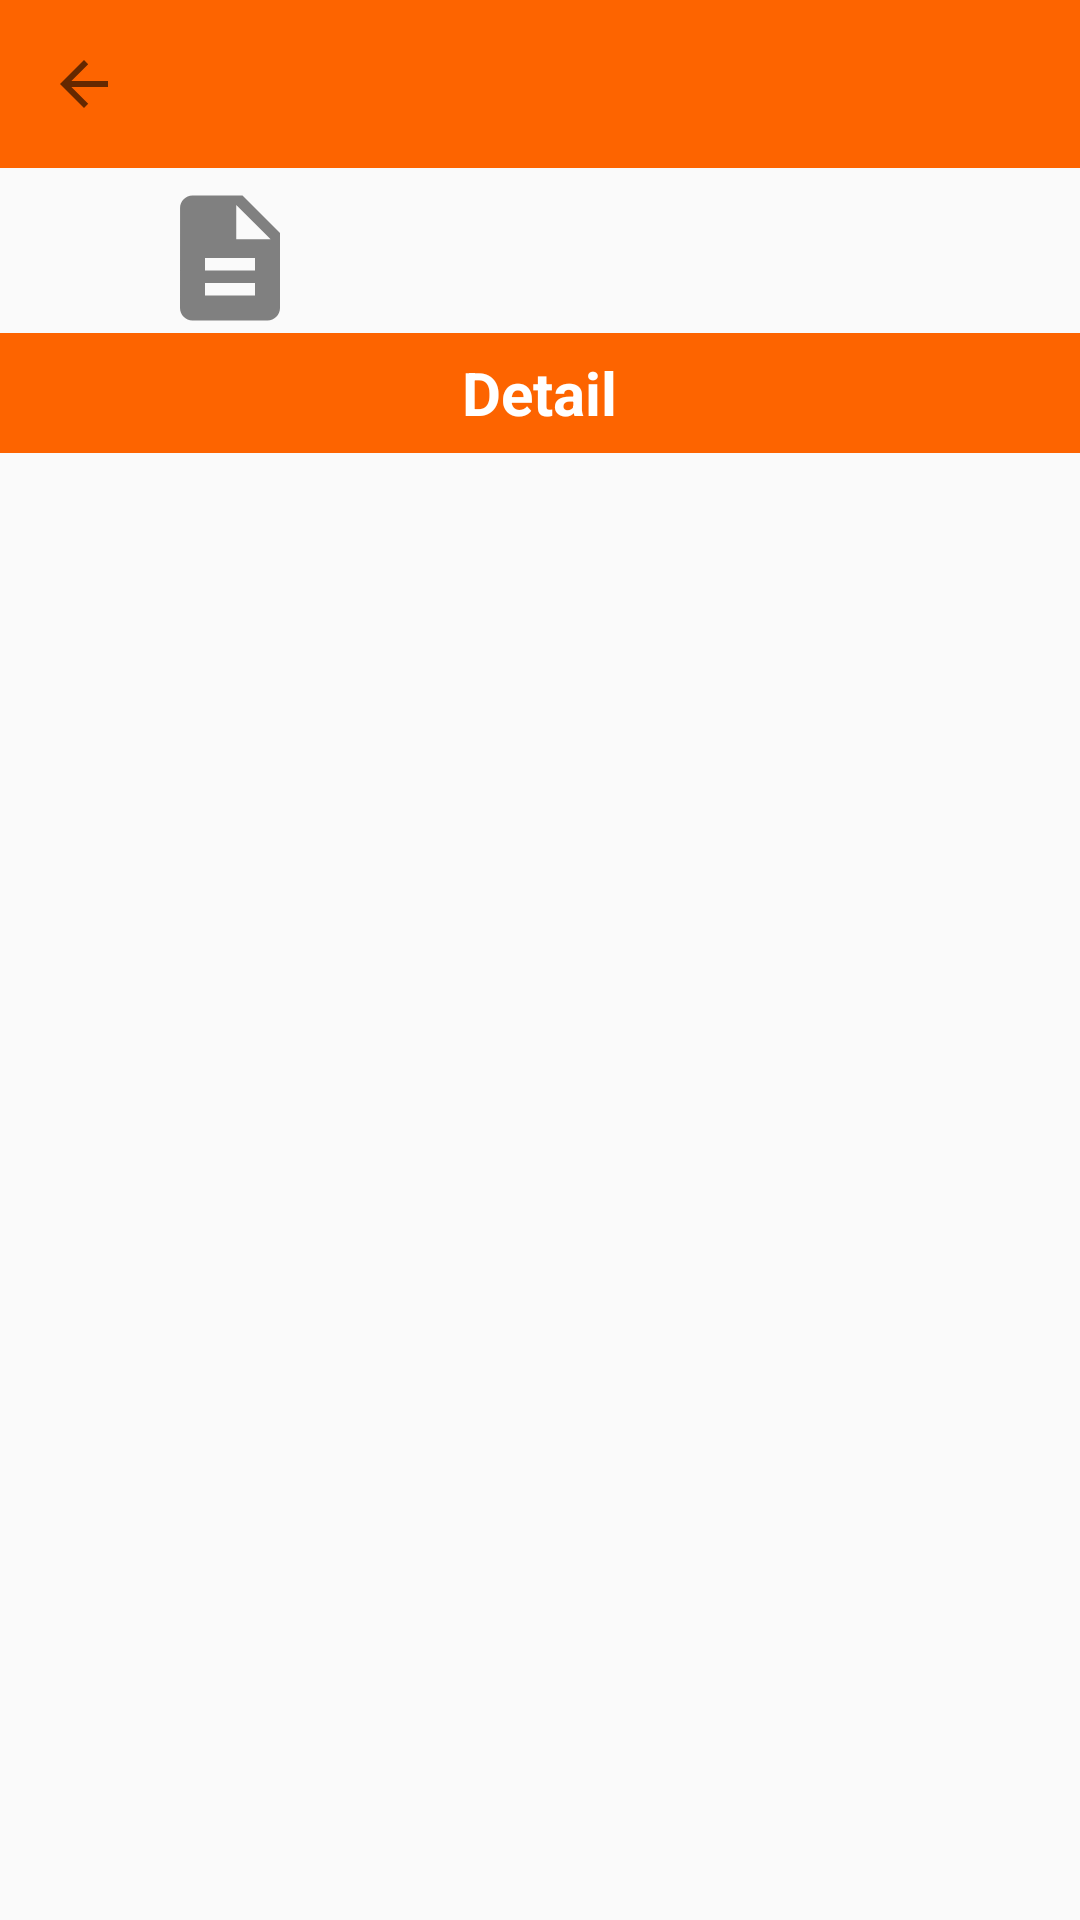

Locate icon controls on the screen. Image size 1080px×1920px, boxes as rect(x1, y1, x2, y2).
description: rect(180, 195, 280, 321)
